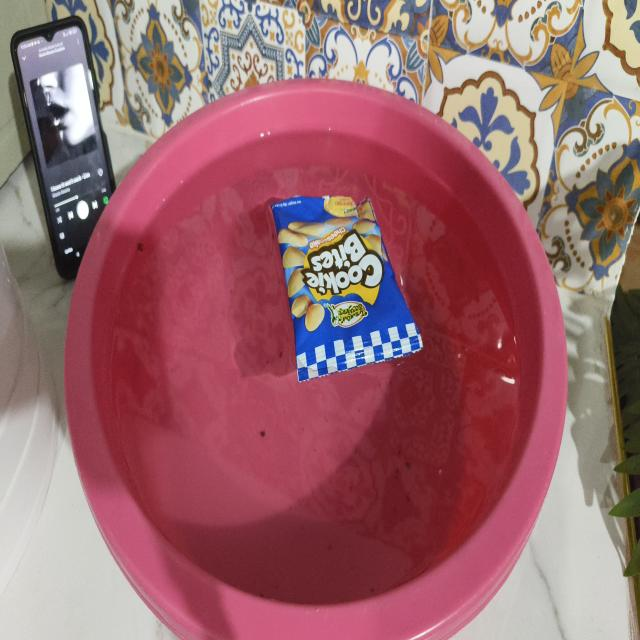Plastic Wrapper: (272, 196, 422, 381)
